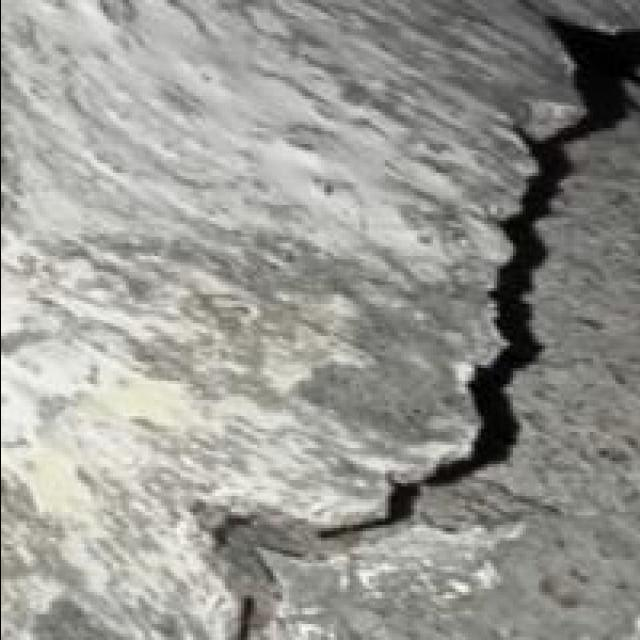SurfaceCrack: (226, 0, 640, 640)
